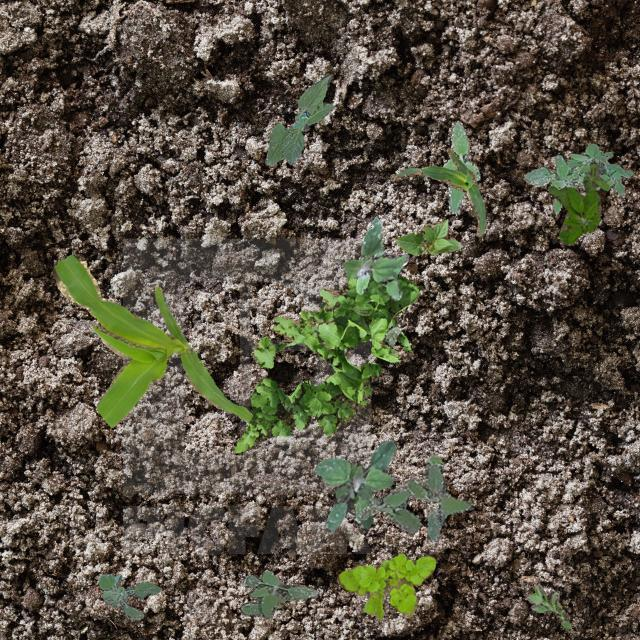crop: (52, 254, 252, 426), (388, 147, 484, 236), (264, 72, 332, 164), (394, 218, 460, 254)
weed: (232, 288, 410, 454), (358, 454, 472, 540), (316, 270, 422, 362), (314, 438, 396, 532), (336, 552, 434, 618), (342, 216, 408, 300), (548, 160, 608, 244), (522, 154, 590, 214), (240, 570, 318, 618), (566, 142, 632, 194), (442, 120, 478, 212), (98, 574, 160, 618), (526, 582, 570, 628), (380, 320, 400, 344)
